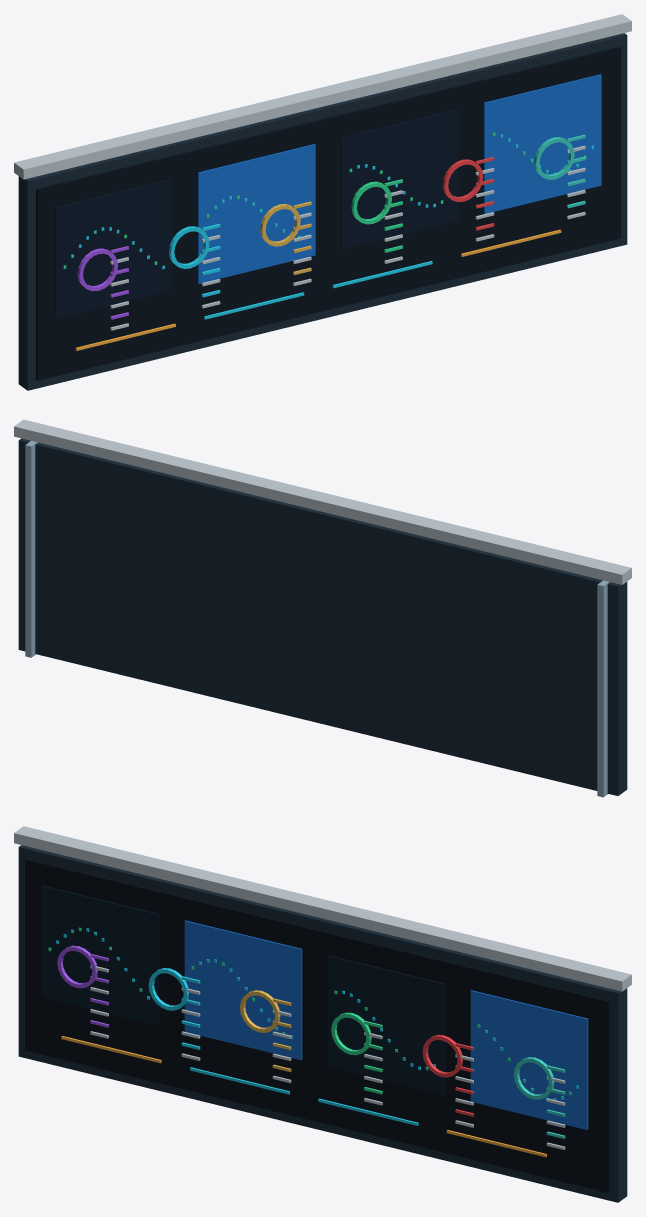
File: 62_L78_HolographicDielectricSCADA.fbx
3 renders of one model, top to bottom at view 1: azimuth 30°, elevation 25°; view 2: azimuth 150°, elevation 25°; view 3: azimuth 330°, elevation 25°, orthographic.
Visible parts, largest first — view 1: HolographicDielectricSCADA; view 2: HolographicDielectricSCADA; view 3: HolographicDielectricSCADA.
Boxes of the visible parts, x1,y1,x2,y2 form: HolographicDielectricSCADA: (14,14,631,390); HolographicDielectricSCADA: (14,419,631,797); HolographicDielectricSCADA: (14,826,631,1202).
Bounding box in the file's own units: 693 × 243 × 39.
